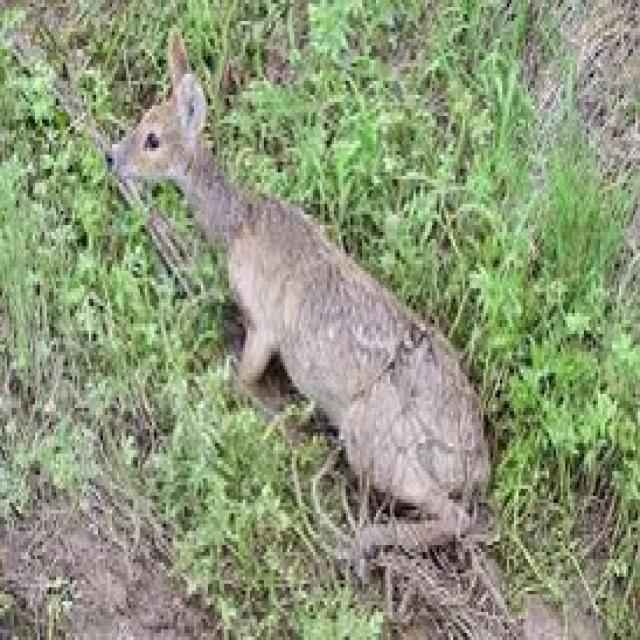elk: (104, 18, 523, 573)
